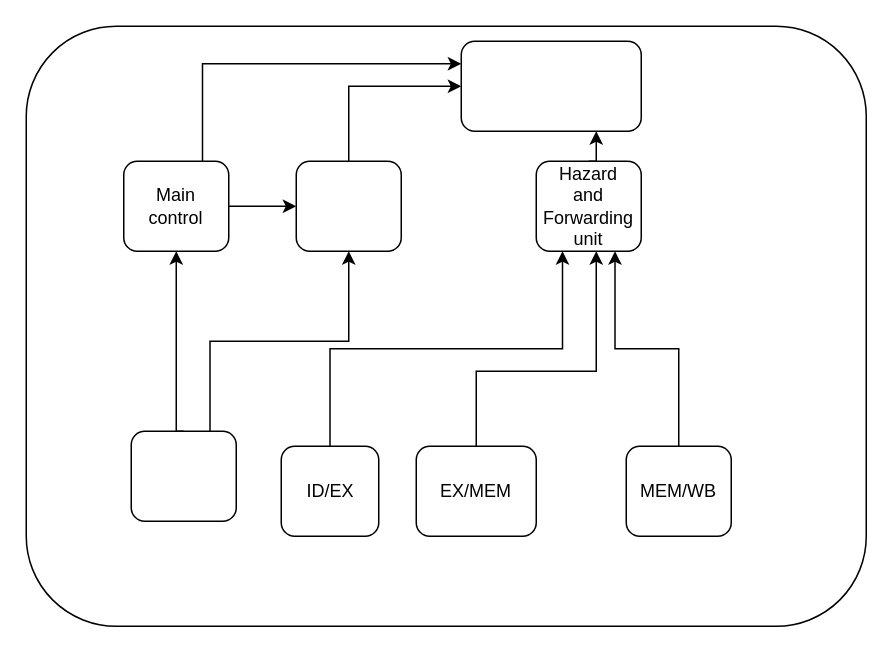
Image size: 893x653. Some labels were removed from this diagram. Here are the shapes that lost their labels. From the top down, the centre of each, then its label:
At point (550, 85): "Outputs".
At point (348, 205): "ALU control".
At point (183, 475): "ID_stage".
